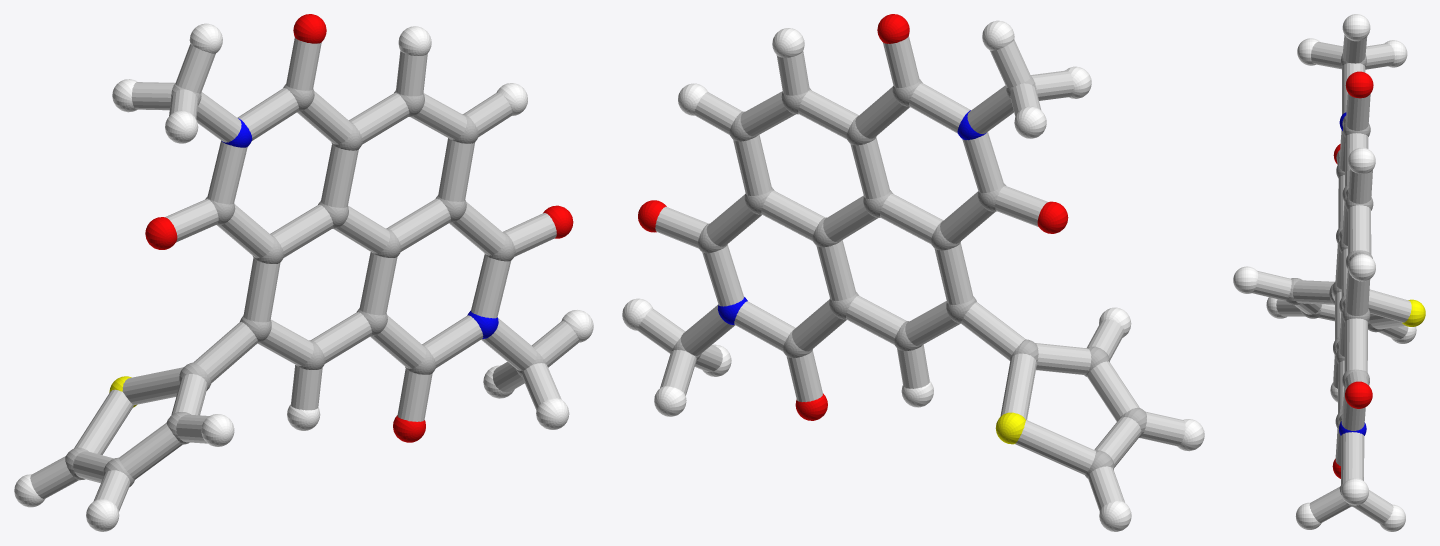
File: Dimethyl_Naphthalene_Dicarboximide_Phi_5_Theta_280_Thiophene.glb
3 views of the same model, side by side, from view 1: azimuth 30°, elevation 25°; view 2: azimuth 150°, elevation 25°; view 3: azimuth 270°, elevation 25° (orthographic). The views are drawn at different scales.
Visible parts, largest first — view 1: grp14119, grp7241, grp1, grp12309, grp11585; view 2: grp14119, grp7241, grp1, grp12309, grp13757, grp11585; view 3: grp14119, grp7241, grp1, grp12309, grp13757.
Boxes of the visible parts, x1,y1,x2,y2 form: grp14119: (30, 37, 579, 511); grp7241: (14, 23, 593, 531); grp1: (65, 84, 546, 487); grp12309: (145, 14, 573, 442); grp11585: (222, 118, 498, 338); grp14119: (637, 36, 1185, 511); grp7241: (622, 20, 1204, 531); grp1: (672, 76, 1146, 478); grp12309: (638, 14, 1068, 420); grp13757: (995, 412, 1025, 444); grp11585: (717, 110, 986, 324); grp14119: (1252, 35, 1411, 524); grp7241: (1233, 14, 1416, 531); grp1: (1285, 54, 1384, 506); grp12309: (1332, 71, 1373, 478); grp13757: (1402, 299, 1425, 326).
Size of the model in its own units: 11.41 by 9.25 by 4.16.
